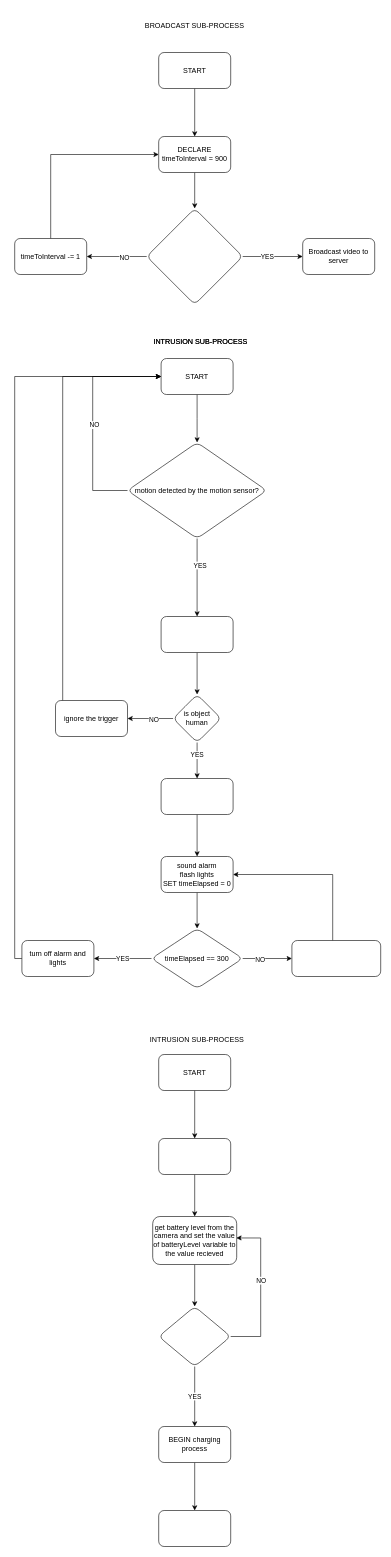
Image size: 391x1557. Some labels were removed from this diagram. The shapes that lost their labels are listed below. From the top down, each one's centre as x and y in pixels, then its label:
the point at 194,256: timeToInterval == 0
the point at 196,634: analyze the captured frames
the point at 196,796: send email to admin
the point at 336,958: SET timeElapsed += 1
the point at 194,1156: DECLARE batteryLevel
the point at 194,1336: batteryLevel < 10
the point at 194,1528: DISABLE alarm and lights DISABLE manual override
